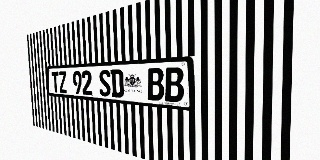2: (81, 70, 92, 95)
9: (72, 71, 82, 95)
B: (164, 67, 184, 103), (147, 68, 164, 101)
D: (110, 69, 124, 98)
S: (99, 70, 111, 97)
T: (51, 71, 59, 93)
Z: (58, 71, 67, 93)
